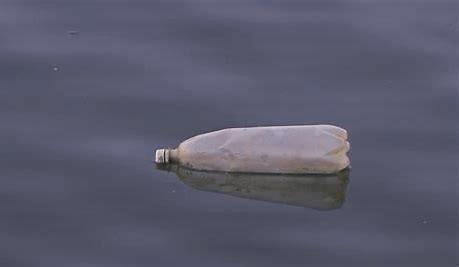Plastic: (153, 125, 351, 176)
